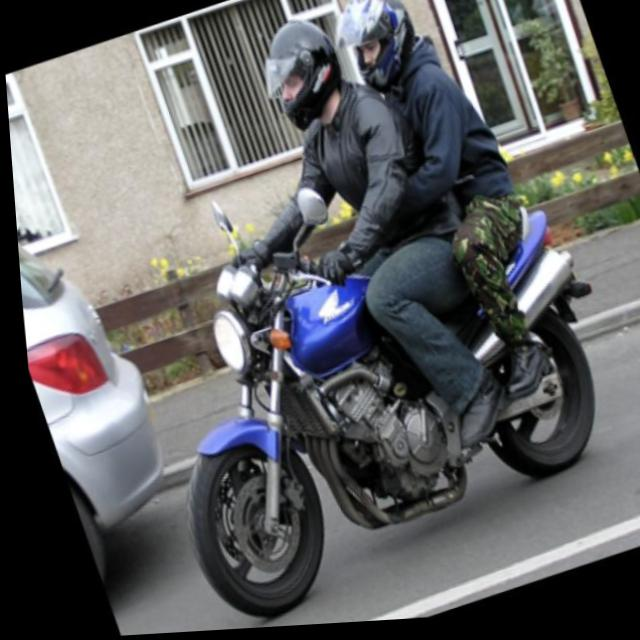WITH_HELMET: (240, 5, 354, 141), (321, 0, 434, 105)
